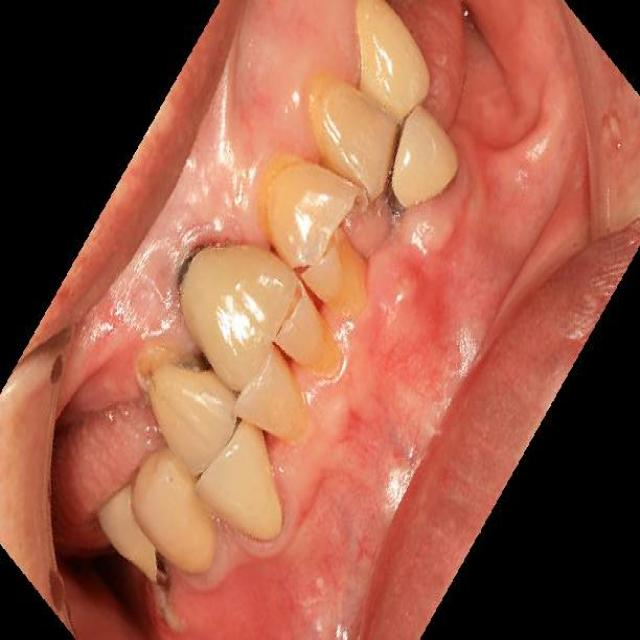caries: (126, 332, 200, 388), (172, 225, 219, 288)
